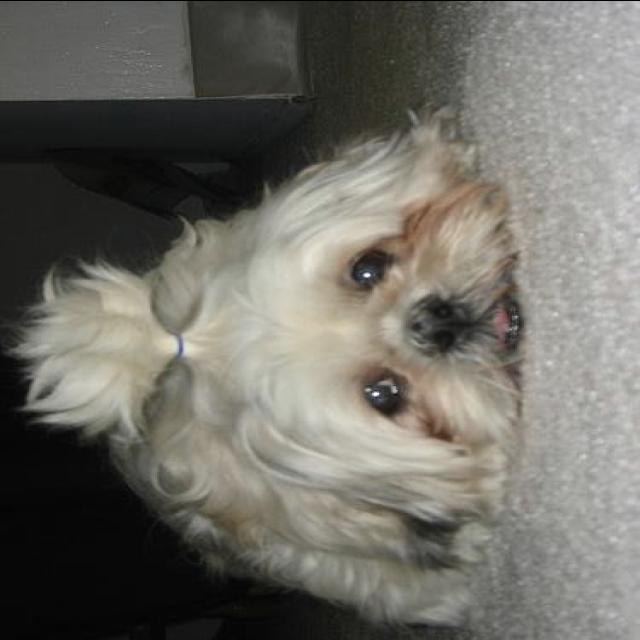shih_tzu: (10, 100, 526, 628)
